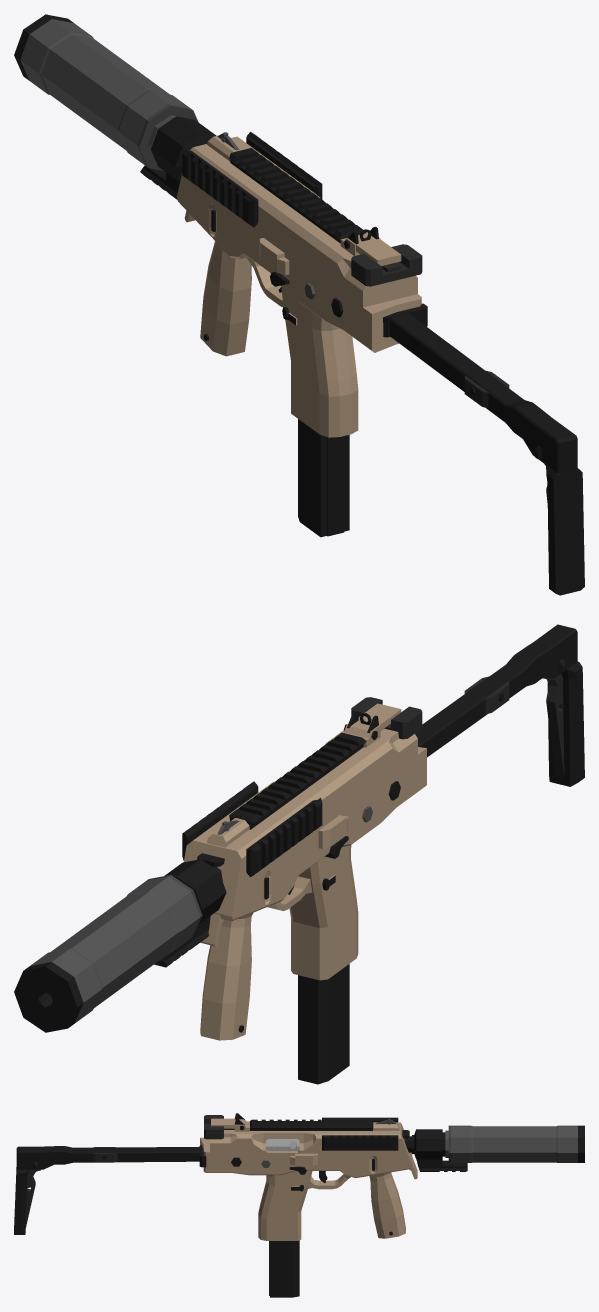
3 renders of one model, top to bottom at view 1: azimuth 30°, elevation 25°; view 2: azimuth 150°, elevation 25°; view 3: azimuth 270°, elevation 25°, orthographic. The views are drawn at different scales.
Parts seen in each view (by area): view 1: body.005, suppressor.001, body.009, body.008, body.007, body.006; view 2: body.005, suppressor.001, body.009, body.008, body.007; view 3: body.005, suppressor.001, body.009, body.008, ejectionPortCover.001, body.007.
Boxes of the visible parts, left/top/right/bottom form: body.005: left=176, top=135, right=584, bottom=595; suppressor.001: left=14, top=14, right=216, bottom=199; body.009: left=182, top=132, right=322, bottom=227; body.008: left=229, top=148, right=366, bottom=243; body.007: left=351, top=244, right=422, bottom=286; body.006: left=363, top=294, right=421, bottom=352; body.005: left=184, top=624, right=584, bottom=1084; suppressor.001: left=14, top=859, right=226, bottom=1032; body.009: left=182, top=781, right=322, bottom=877; body.008: left=229, top=732, right=366, bottom=829; body.007: left=351, top=697, right=422, bottom=739; body.005: left=14, top=1113, right=417, bottom=1297; suppressor.001: left=412, top=1125, right=584, bottom=1171; body.009: left=322, top=1117, right=398, bottom=1150; body.008: left=250, top=1119, right=373, bottom=1130; ejectionPortCover.001: left=266, top=1139, right=299, bottom=1150; body.007: left=204, top=1115, right=223, bottom=1139.
Size of the model in its own units: 0.5204 by 2.2 by 6.42.
